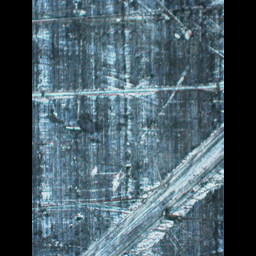d: (78, 121, 224, 256), (32, 77, 222, 118)
